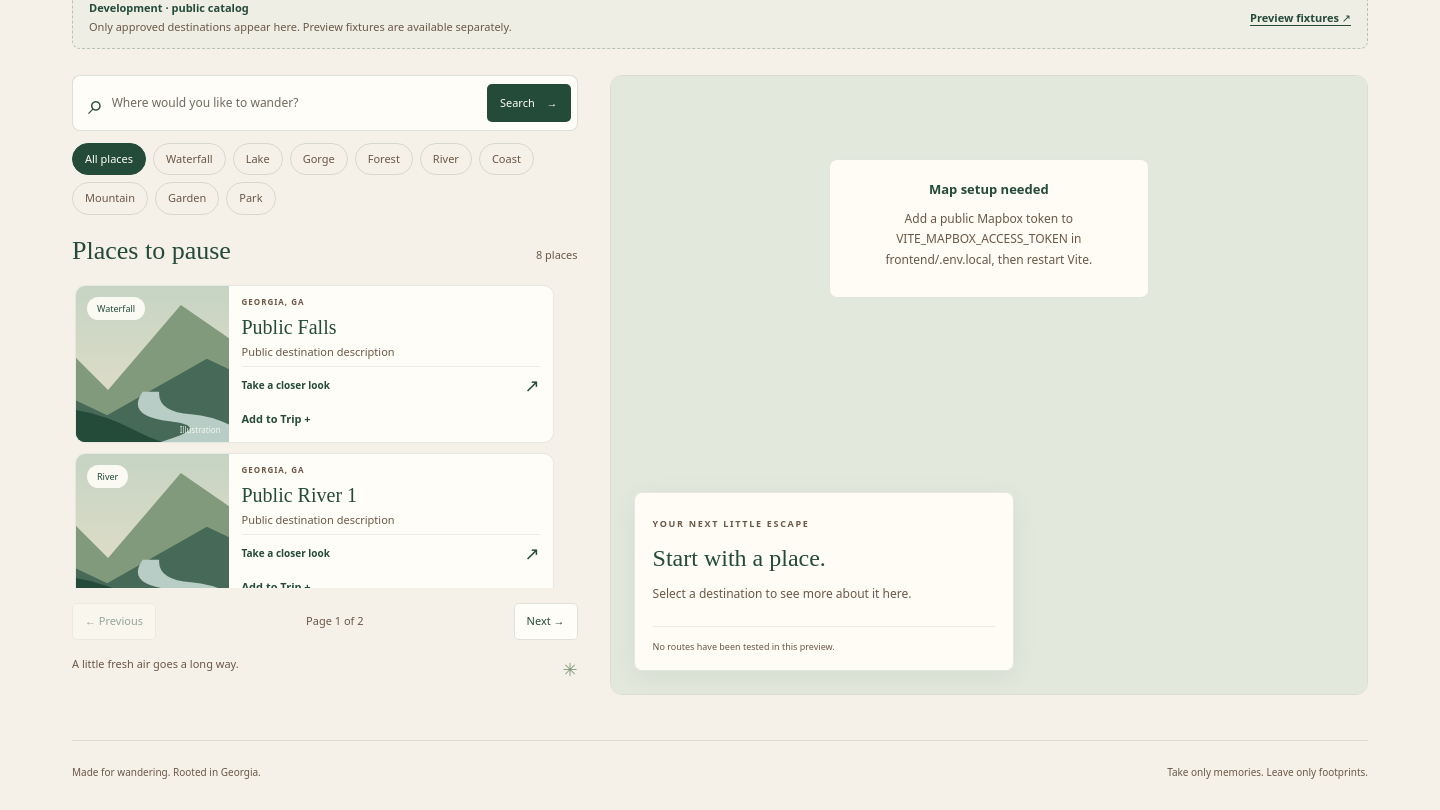
Explore › loads public cards, filters by name/category and resets page
(page scrolled)
Expected: the heading "Public Falls" is shown, [242,316,336,338]
Click the button "Next →" at (546, 622), box [514,603,578,640]
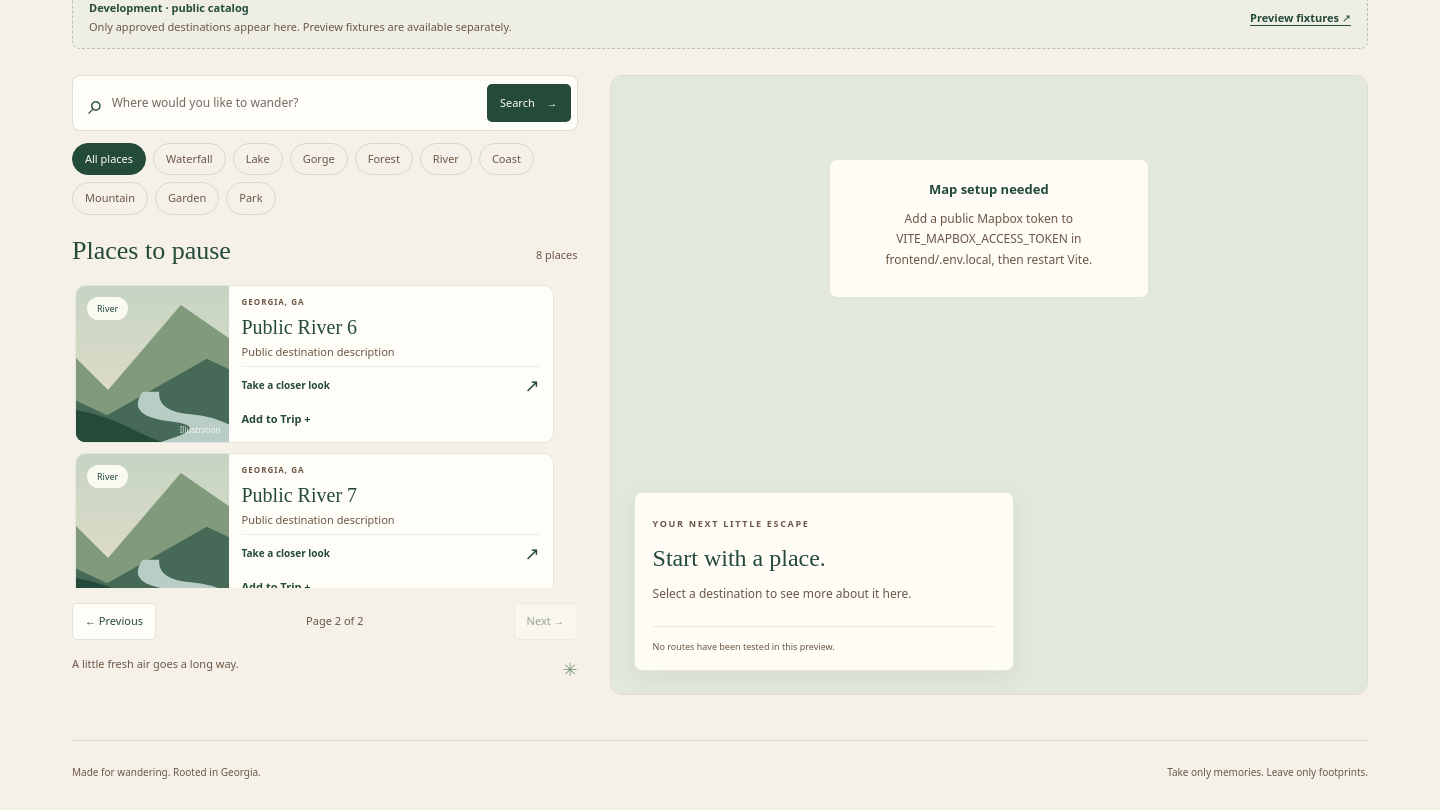
Expected: the heading "Public River 7" is shown, [242,484,357,506]
Click the button "Waterfall" at (189, 159), box [153,143,226,175]
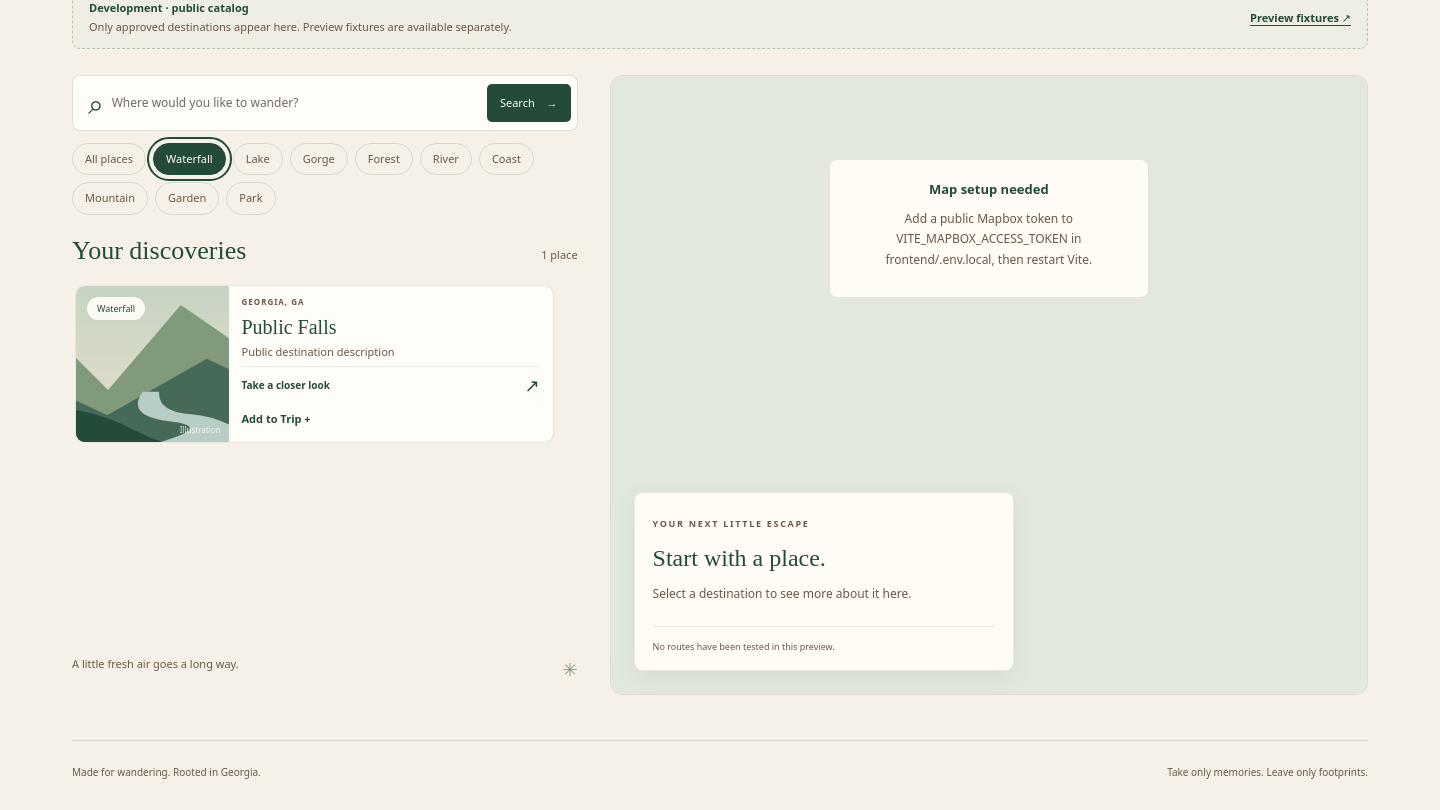
Expected: the heading "Public Falls" is shown, [242,316,336,338]
Expected: the text "1 place" is shown, [541,247,578,263]
Type "missing" into the search field at (295, 103), box [112,84,479,122]
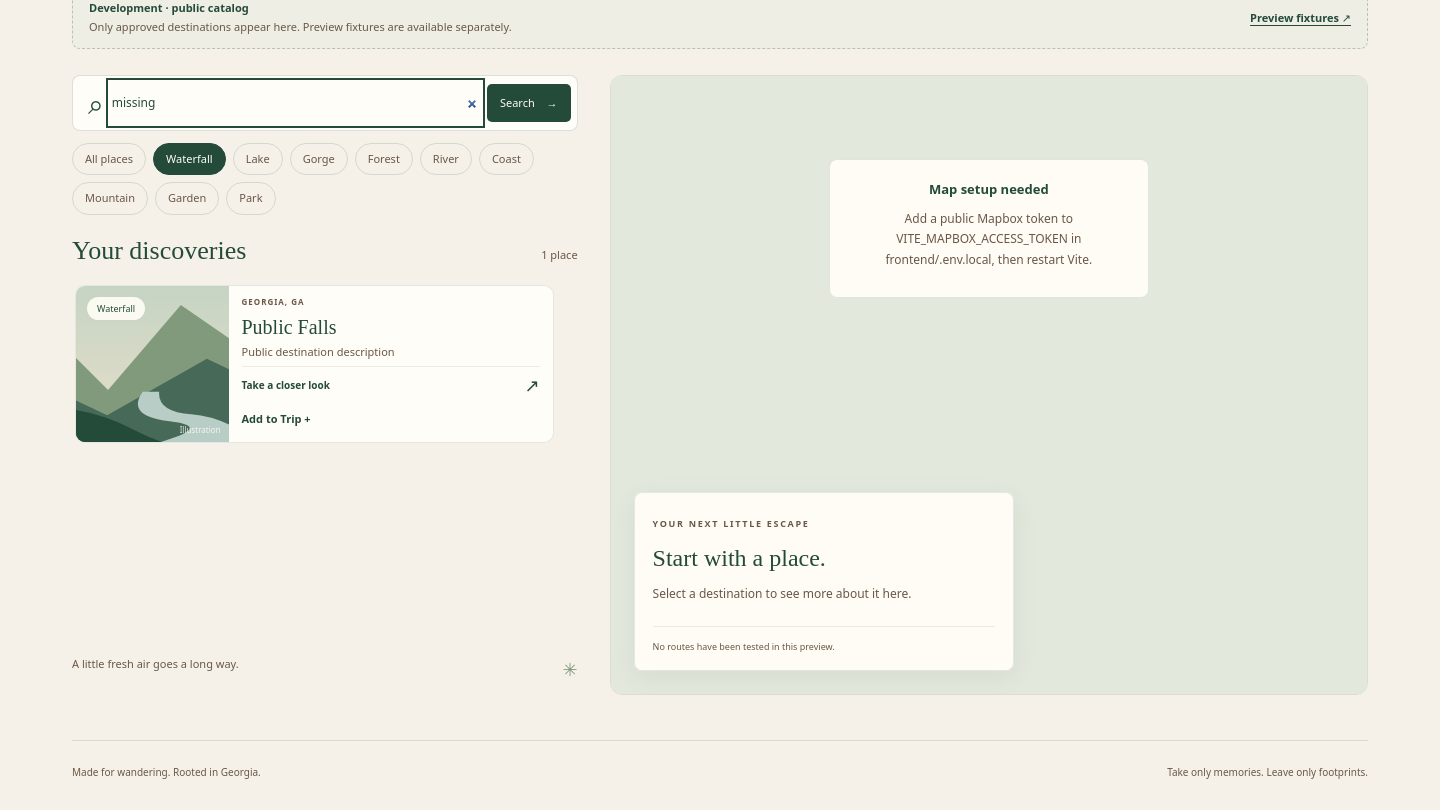
Click the button "Search →" at (529, 103), box [487,84,571,122]
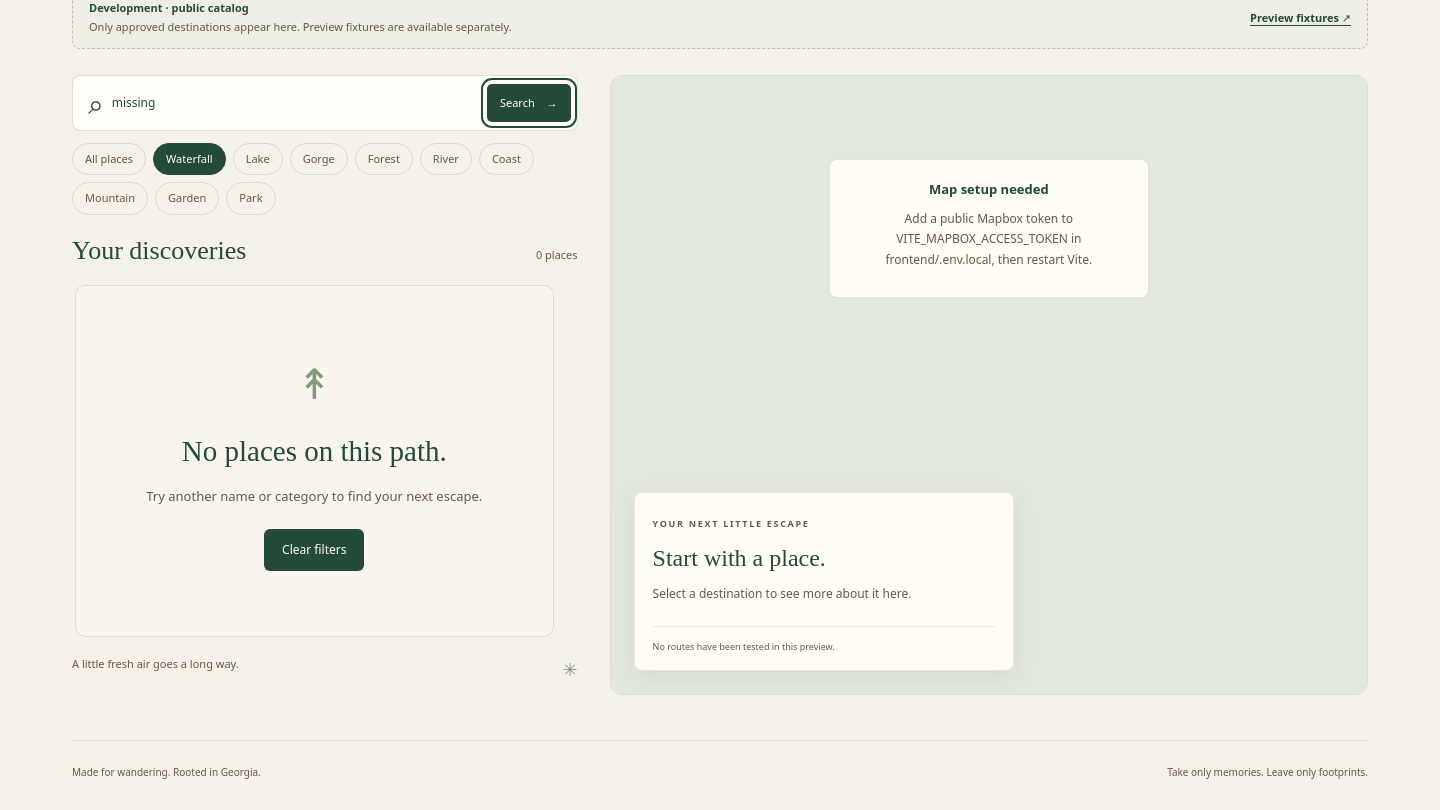
Expected: the heading "No places on this path." is shown, [182,435,447,467]
Click the button "Clear filters" at (314, 550), box [264,529,364,571]
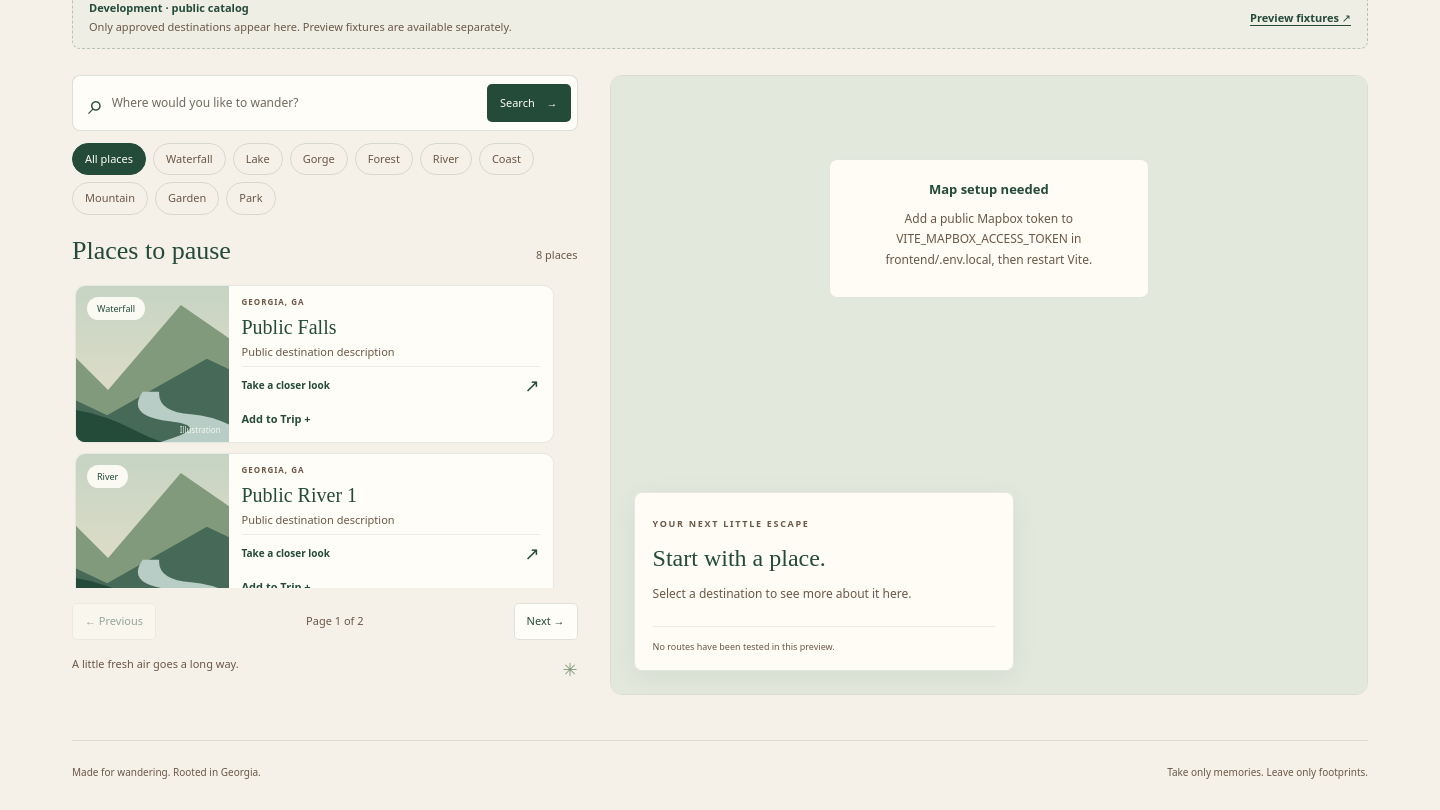
Expected: the text "8 places" is shown, [536,247,578,263]
